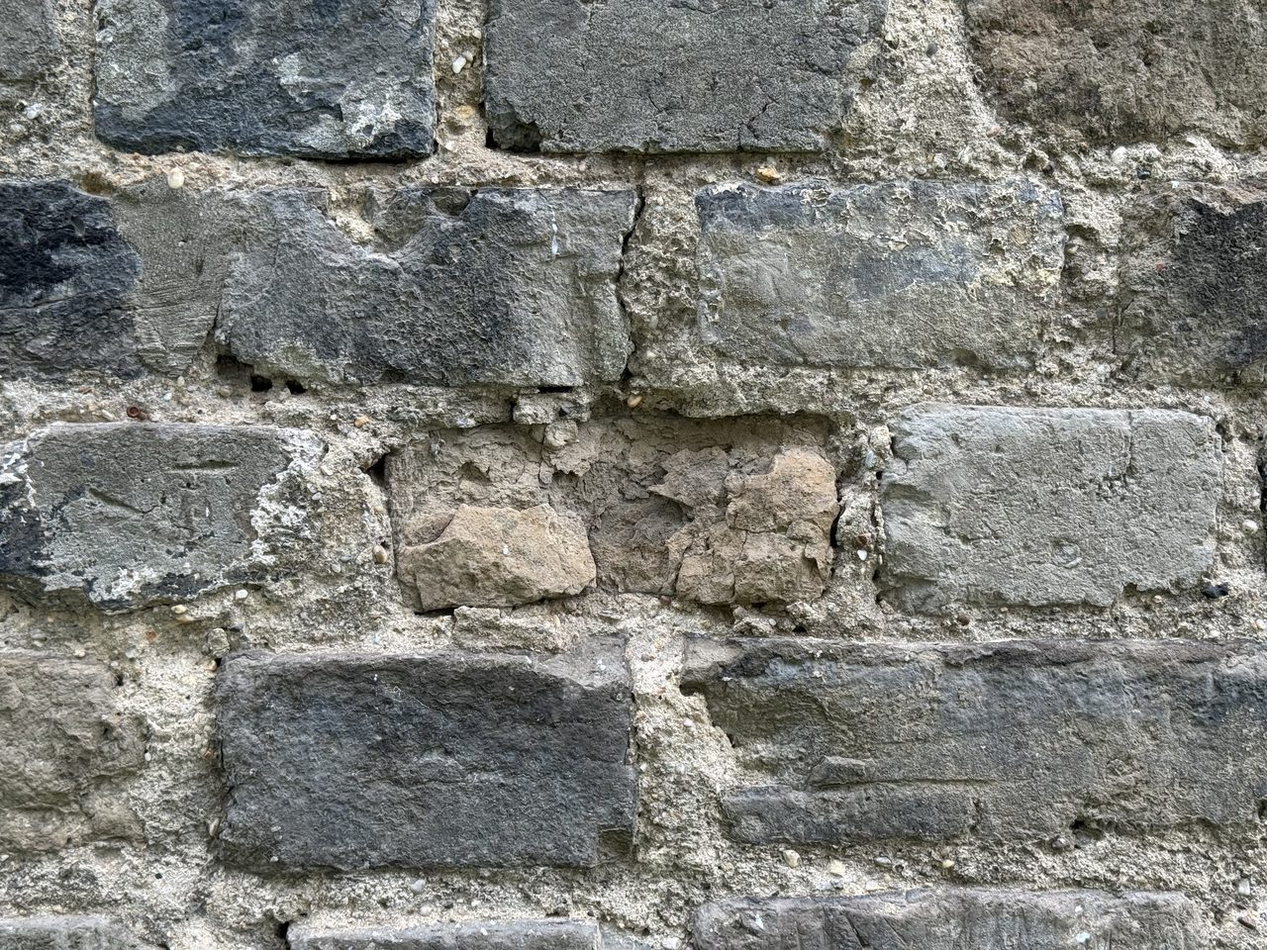brick_loss: (371, 397, 857, 634)
